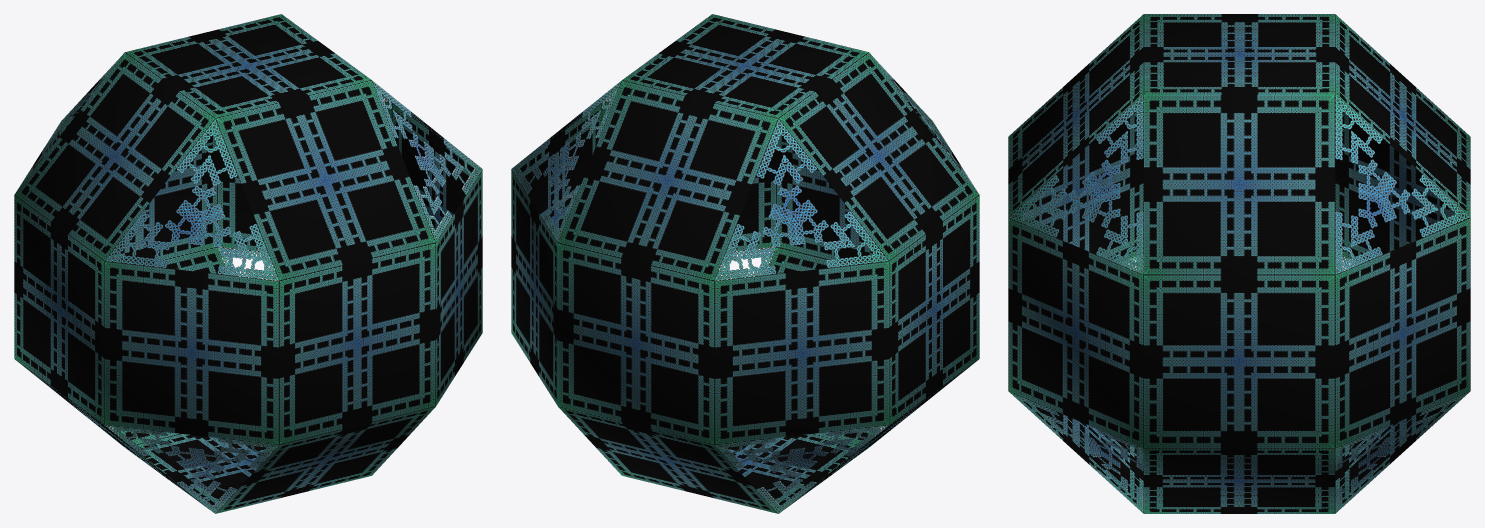
File: 22Rhombicuboctahedron.gltf
3 renders of one model, left to right at view 1: azimuth 30°, elevation 25°; view 2: azimuth 150°, elevation 25°; view 3: azimuth 270°, elevation 25°, orthographic. The views are drawn at different scales.
Visible parts, largest first — view 1: 22Rhombicuboctahedron; view 2: 22Rhombicuboctahedron; view 3: 22Rhombicuboctahedron.
Part boxes in pixels (bbox=[...]): 22Rhombicuboctahedron: bbox=[14, 14, 482, 513]; 22Rhombicuboctahedron: bbox=[511, 14, 979, 513]; 22Rhombicuboctahedron: bbox=[1008, 14, 1470, 513].
Bounding box in the file's own units: 2.41 × 2.41 × 2.41.
2 materials, 2 textured.
